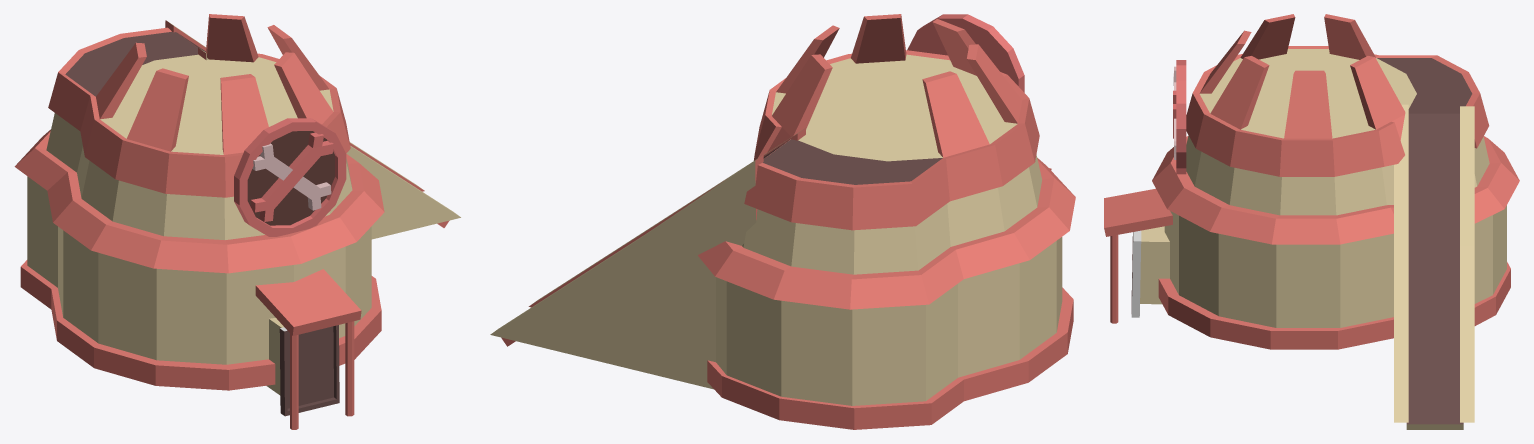
The model's file is Boenaha_Town_Center.fbx.
3 renders of one model, left to right at view 1: azimuth 30°, elevation 25°; view 2: azimuth 150°, elevation 25°; view 3: azimuth 270°, elevation 25°, orthographic. The views are drawn at different scales.
Visible parts, largest first — view 1: Cube.001, Cube.003; view 2: Cube.001, Cube.003; view 3: Cube.001, Cube.003.
Boxes of the visible parts, x1,y1,x2,y2 form: Cube.001: (14, 14, 460, 429); Cube.003: (234, 118, 346, 236); Cube.001: (490, 14, 1075, 429); Cube.003: (907, 14, 1024, 92); Cube.001: (1104, 14, 1519, 429); Cube.003: (1173, 60, 1186, 174).
Size of the model in its own units: 319 by 205 by 290.
